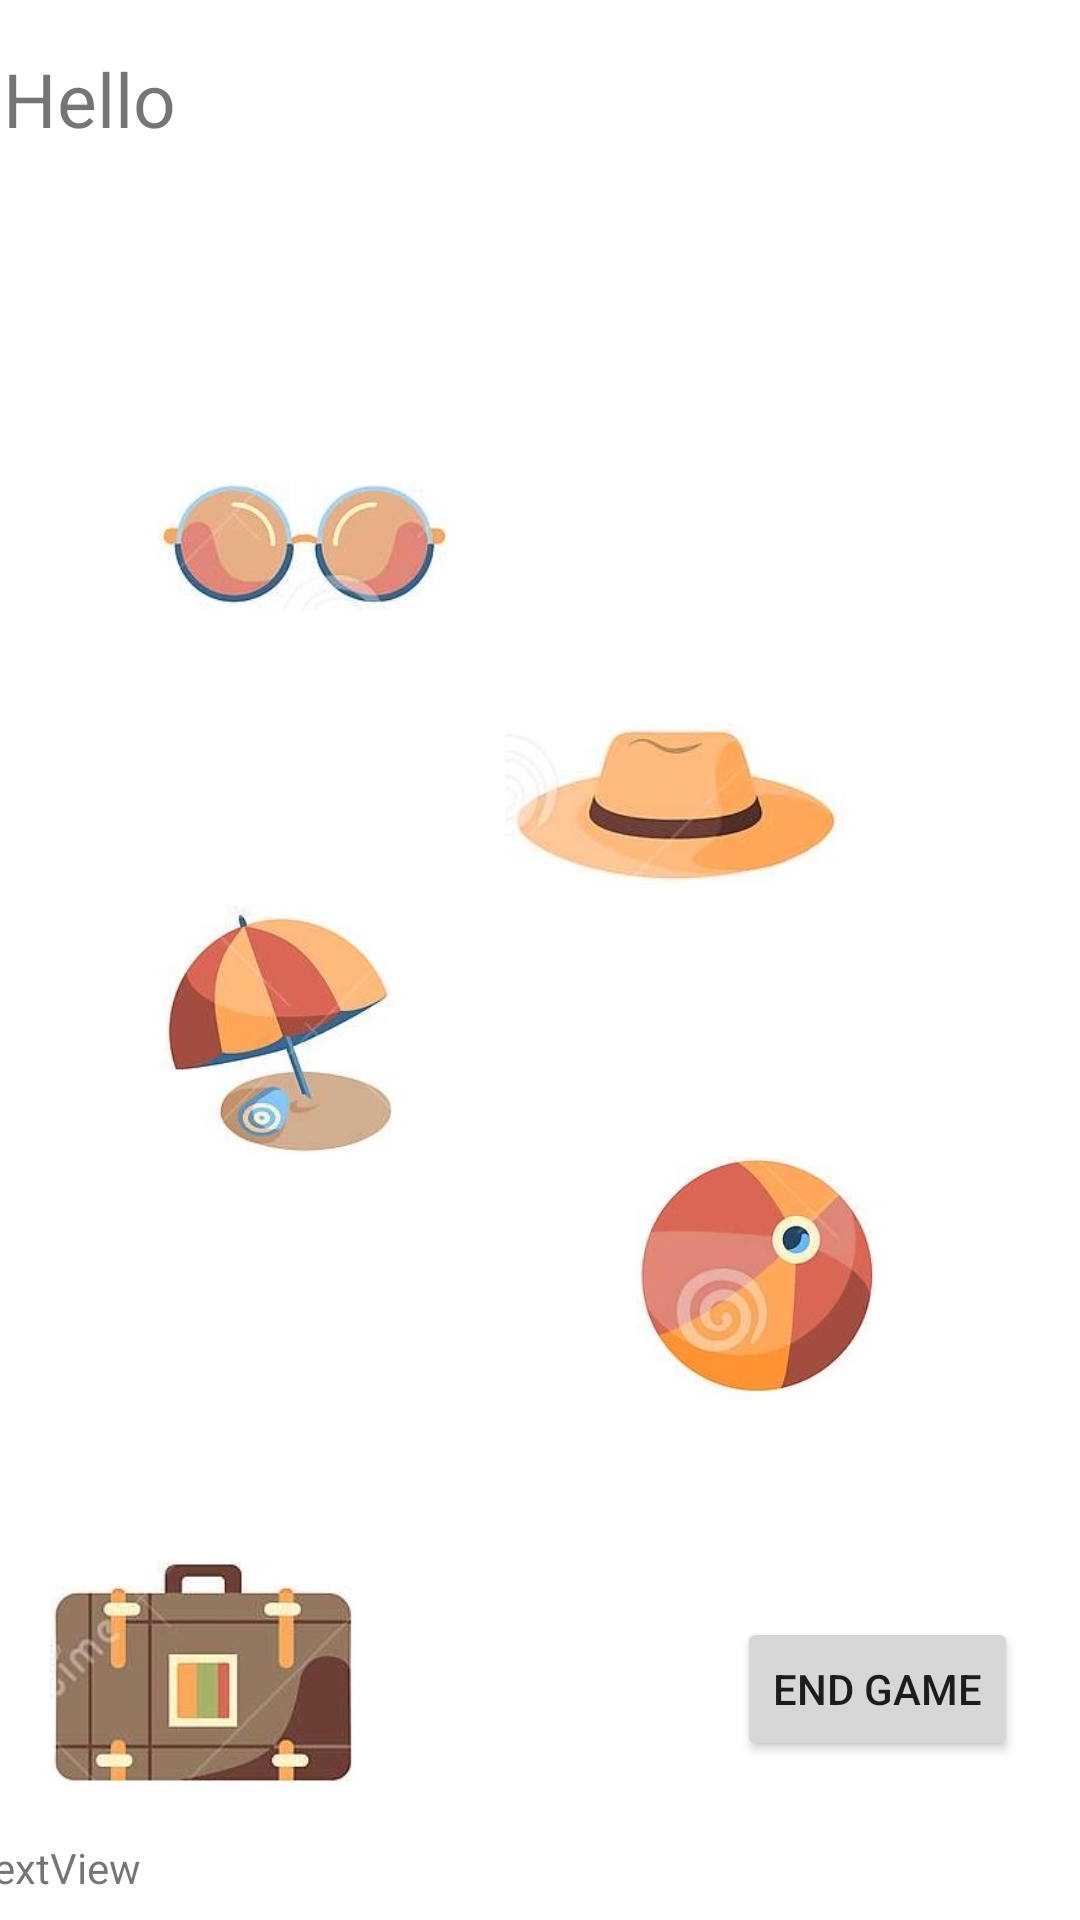

Named icons in this screenshot (1080*1920) and their bounding boxes, rect(x1, y1, x2, y2):
ball: rect(641, 1159, 873, 1392)
brille: rect(162, 485, 446, 603)
hut: rect(516, 730, 836, 880)
koffer: rect(54, 1563, 352, 1782)
schirm: rect(168, 914, 392, 1151)
